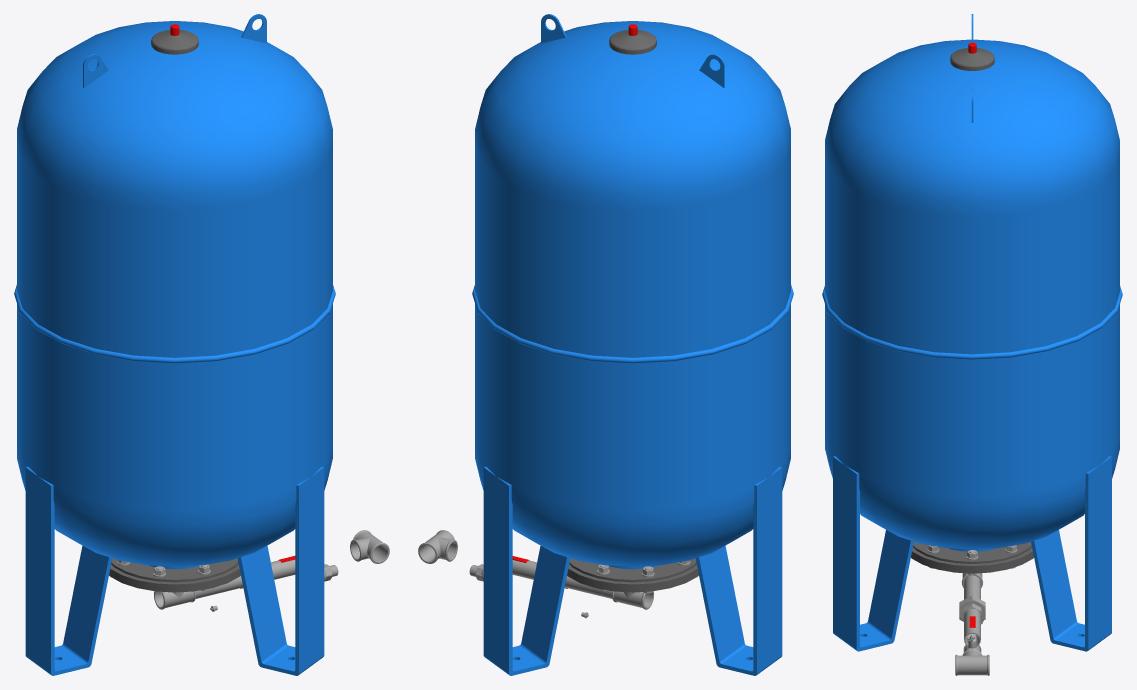
The model's file is BombaDeExpasión.fbx.
3 renders of one model, left to right at view 1: azimuth 30°, elevation 25°; view 2: azimuth 150°, elevation 25°; view 3: azimuth 270°, elevation 25°, orthographic. The views are drawn at different scales.
Visible parts, largest first — view 1: Gruppo#10 [60036], Gruppo#9 [60032], Gruppo#19 [60029], Piede [56135], Piede [56132], [52617], Gruppo#11 [60033], TEE 1"3/4 [54901], Gruppo#12 [60030], TEE 1"3/4 [54898]; view 2: Gruppo#10 [60036], Gruppo#9 [60032], Gruppo#19 [60029], Piede [56129], Piede [56132], [52617], Gruppo#11 [60033], TEE 1"3/4 [54901], Gruppo#12 [60030], TEE 1"3/4 [54898]; view 3: Gruppo#10 [60036], Gruppo#9 [60032], Gruppo#19 [60029], Piede [56129], Piede [56135], [52617], Gruppo#11 [60033], Gruppo#12 [60030], TEE 1"3/4 [54901], Gruppo#55 [54910].
Boxes of the visible parts, left/top/right/bottom form: Gruppo#10 [60036]: left=17, top=145, right=332, bottom=509; Gruppo#9 [60032]: left=17, top=21, right=332, bottom=210; Gruppo#19 [60029]: left=17, top=443, right=332, bottom=566; Piede [56135]: left=237, top=466, right=324, bottom=675; Piede [56132]: left=25, top=466, right=112, bottom=675; [52617]: left=109, top=558, right=240, bottom=592; Gruppo#11 [60033]: left=14, top=285, right=335, bottom=363; TEE 1"3/4 [54901]: left=350, top=530, right=389, bottom=563; Gruppo#12 [60030]: left=151, top=29, right=198, bottom=54; TEE 1"3/4 [54898]: left=154, top=591, right=195, bottom=609; Gruppo#10 [60036]: left=475, top=145, right=790, bottom=509; Gruppo#9 [60032]: left=475, top=21, right=790, bottom=210; Gruppo#19 [60029]: left=475, top=443, right=790, bottom=566; Piede [56129]: left=483, top=466, right=570, bottom=675; Piede [56132]: left=695, top=466, right=782, bottom=675; [52617]: left=567, top=558, right=698, bottom=592; Gruppo#11 [60033]: left=472, top=285, right=793, bottom=363; TEE 1"3/4 [54901]: left=418, top=530, right=457, bottom=563; Gruppo#12 [60030]: left=609, top=29, right=656, bottom=54; TEE 1"3/4 [54898]: left=612, top=591, right=653, bottom=609; Gruppo#10 [60036]: left=825, top=156, right=1119, bottom=496; Gruppo#9 [60032]: left=825, top=39, right=1119, bottom=217; Gruppo#19 [60029]: left=825, top=435, right=1119, bottom=549; Piede [56129]: left=1031, top=456, right=1111, bottom=651; Piede [56135]: left=833, top=456, right=913, bottom=651; [52617]: left=911, top=541, right=1033, bottom=573; Gruppo#11 [60033]: left=822, top=286, right=1122, bottom=359; Gruppo#12 [60030]: left=950, top=48, right=994, bottom=70; TEE 1"3/4 [54901]: left=955, top=649, right=989, bottom=675; Gruppo#55 [54910]: left=964, top=608, right=980, bottom=646.
Size of the model in its own units: 37.3 by 62.76 by 30.08.
